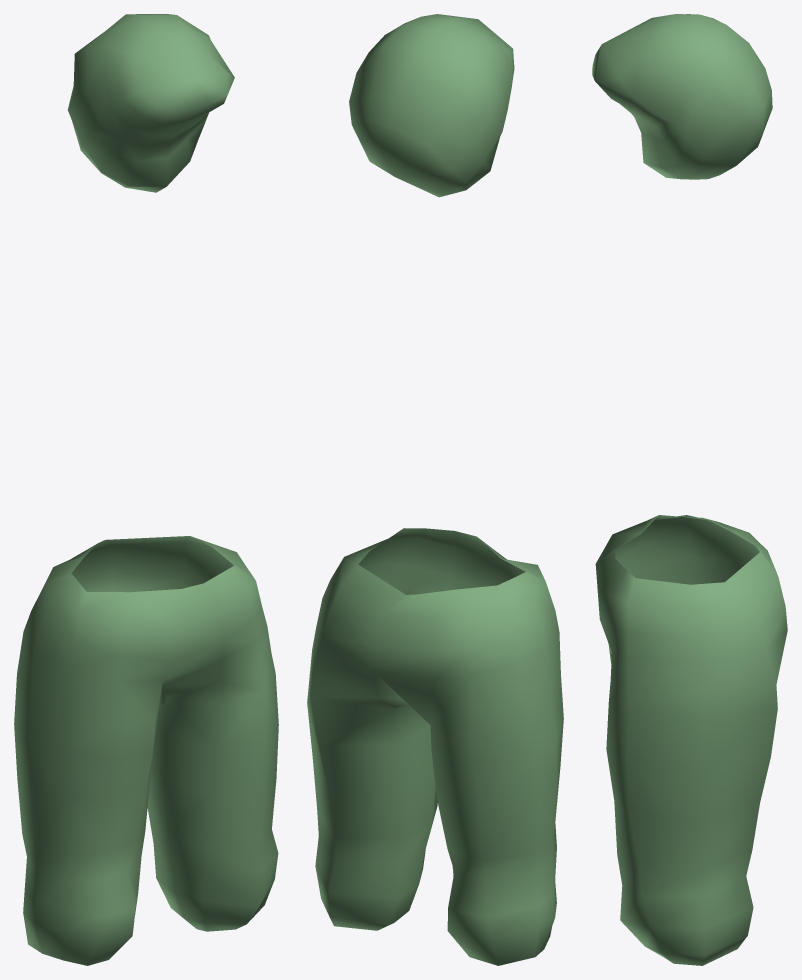
The model's file is cheveux short.fbx.
The picture shows the model from 3 angles, left to right: view 1: azimuth 30°, elevation 25°; view 2: azimuth 150°, elevation 25°; view 3: azimuth 270°, elevation 25°; orthographic projection.
Parts seen in each view (by area): view 1: polySurface385; view 2: polySurface385; view 3: polySurface385.
Boxes of the visible parts, <box> form: polySurface385: <box>14,14,278,965</box>; polySurface385: <box>307,14,563,965</box>; polySurface385: <box>592,14,787,965</box>.
Bounding box in the file's own units: 0.4189 × 0.2966 × 1.52.
